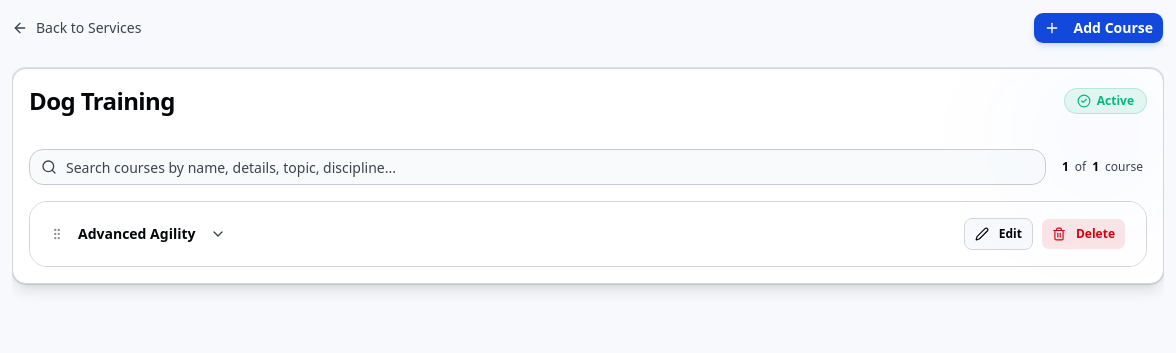
it: DashboardServiceDetail Component › should display Certified, Field, and Parking badges when course has those flags
The image size is (1176, 353).
Click the button named "Expand".
click(218, 234)  # box [206,222,230,246]
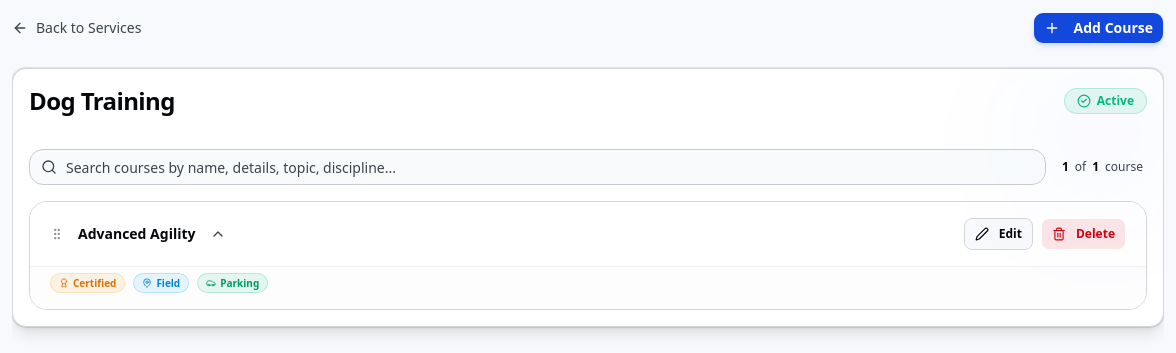
Now the text "Certified" is shown, box [50,273,125,293]
Now the text "Field" is shown, box [133,273,189,293]
Now the text "Parking" is shown, box [197,273,268,293]
